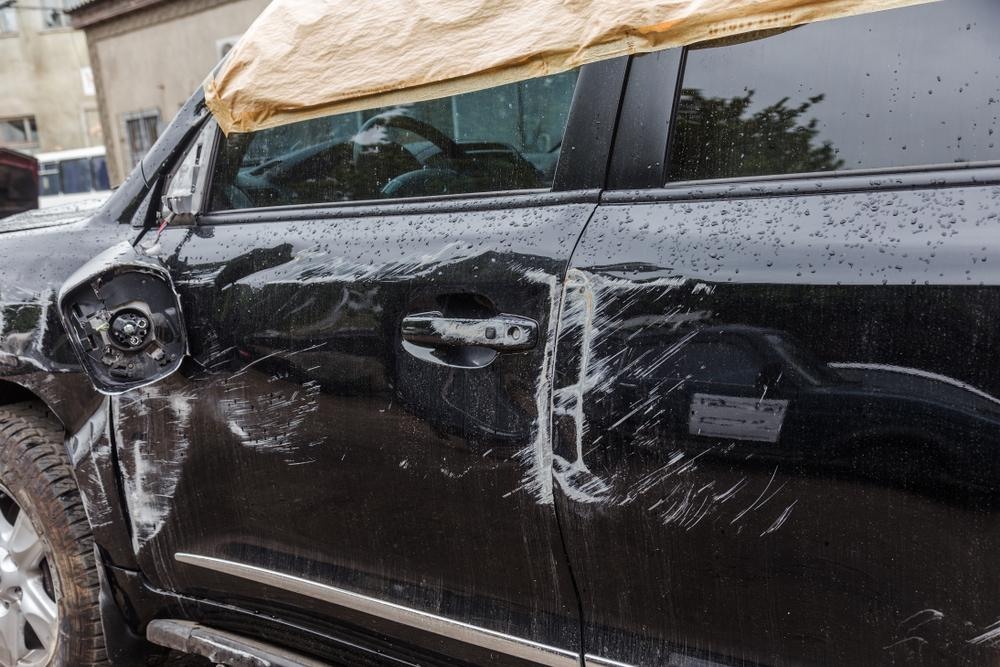scratch: (551, 263, 798, 536), (108, 321, 334, 547), (509, 260, 566, 510), (0, 277, 60, 404), (69, 420, 113, 529), (439, 319, 536, 351)
